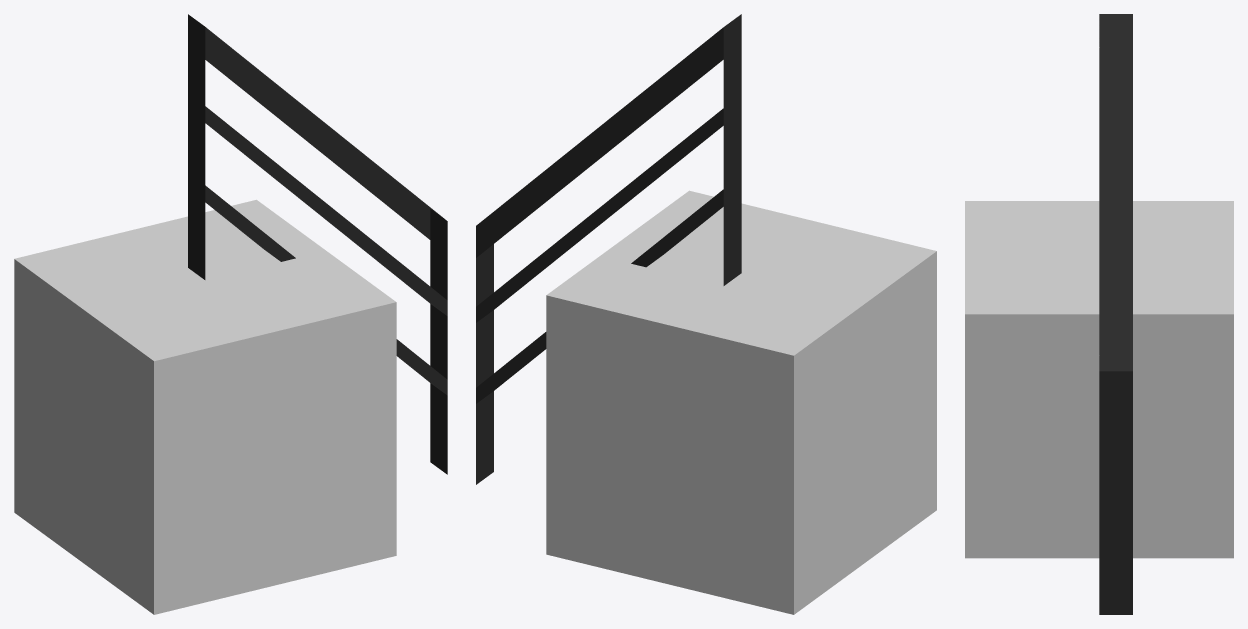
Rendered from baranda_2_bajando.gltf.
3 views of the same model, side by side, from view 1: azimuth 30°, elevation 25°; view 2: azimuth 150°, elevation 25°; view 3: azimuth 270°, elevation 25° (orthographic). The views are drawn at different scales.
Visible parts, largest first — view 1: cuboid (×3), glass_panel; view 2: cuboid (×3), glass_panel; view 3: cuboid, glass_panel.
Boxes of the visible parts, x1,y1,x2,y2 form: cuboid (×3): [14, 94, 447, 614]; glass_panel: [188, 14, 447, 474]; cuboid (×3): [476, 95, 936, 614]; glass_panel: [476, 14, 741, 484]; cuboid: [965, 201, 1233, 558]; glass_panel: [1099, 14, 1132, 614].
Size of the model in its own units: 1.5 by 2 by 1.
Materials: 3 (2 with a texture image).
